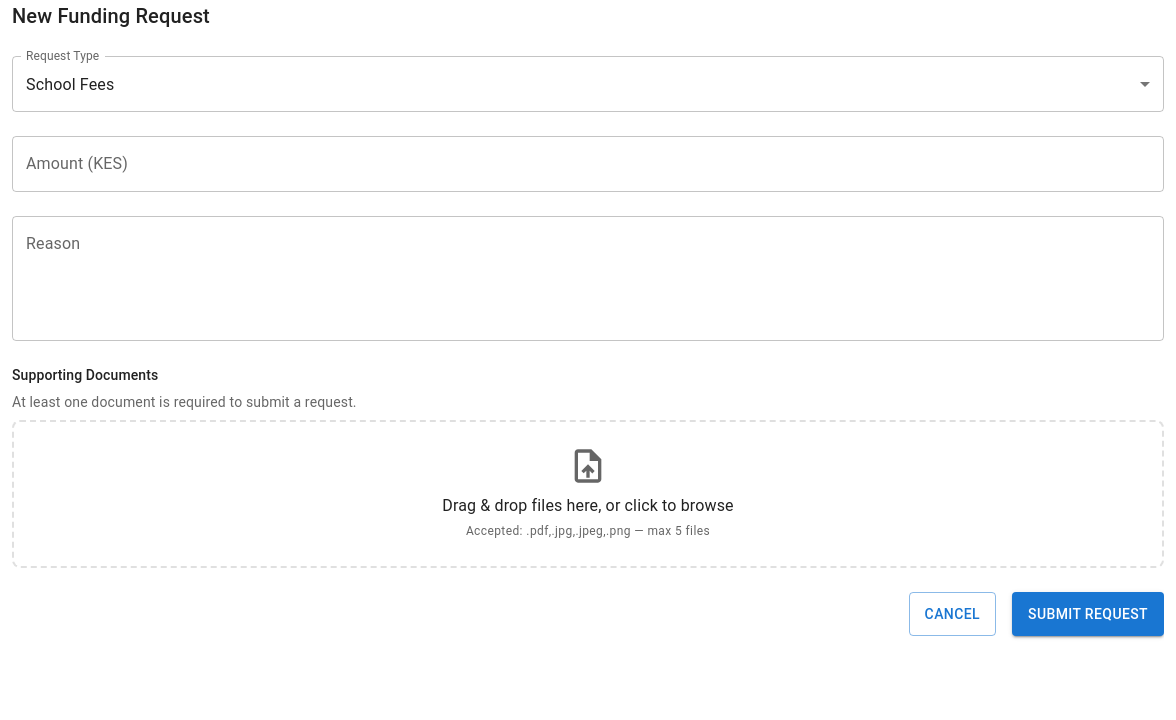
Test: RequestForm › shows error when no supporting document is attached
This screenshot has width=1176, height=720.
Type "5000" into the number field labelled "Amount (KES)". click: {"x": 588, "y": 164}
box: [12, 136, 1164, 192]
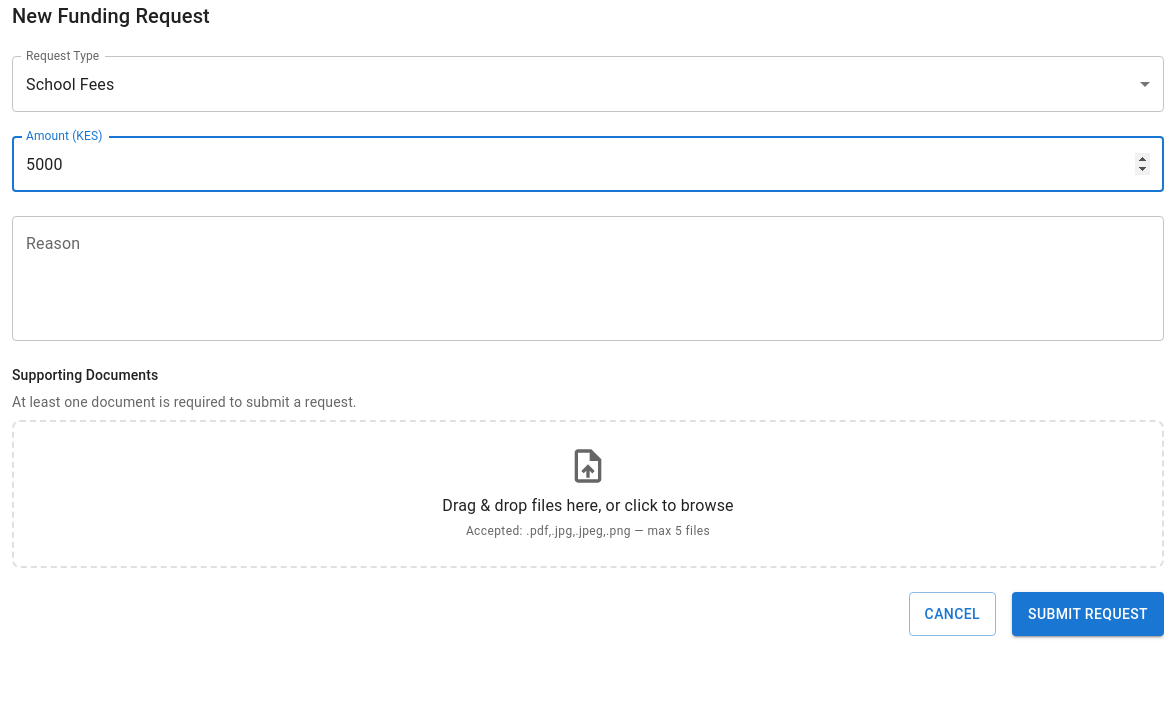
Type "Need funds for school fees this term" into the text box labelled "Reason". click: {"x": 588, "y": 278}
box: [26, 232, 1150, 324]
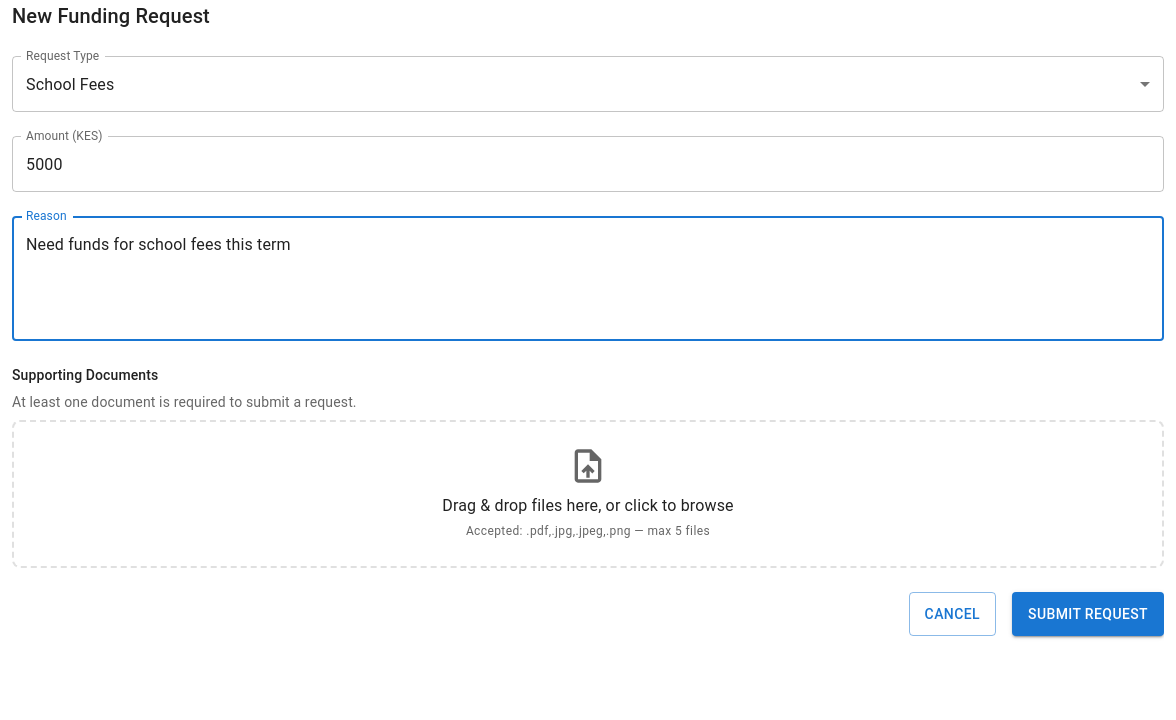
Click the button "Submit Request". click: {"x": 1088, "y": 614}
box: [1012, 592, 1164, 636]
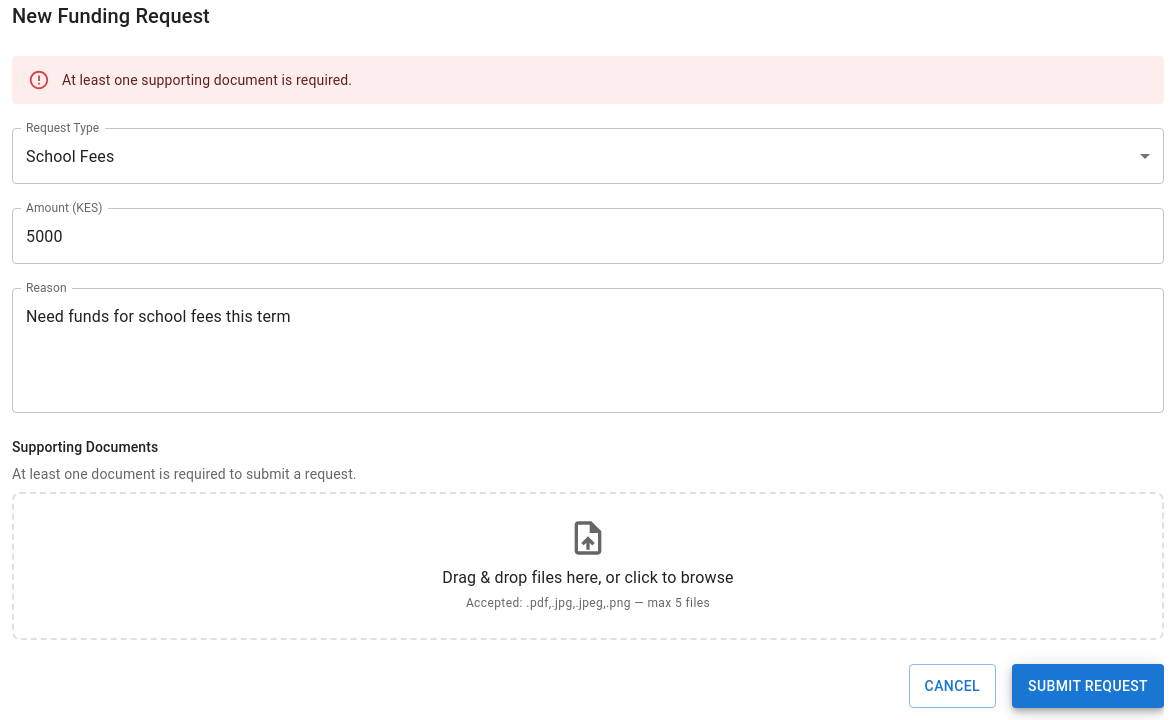
Expected: the message shows "At least one supporting document is required", [62, 72, 352, 88]
